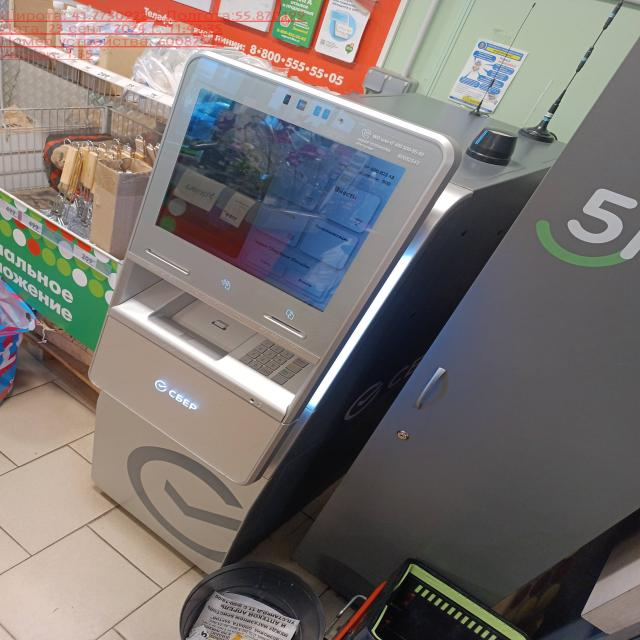bank: (86, 53, 584, 570)
